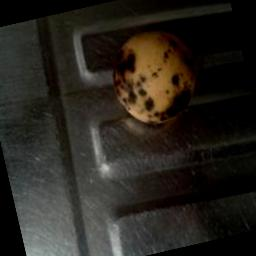Mango Rotten: (92, 12, 212, 154)
